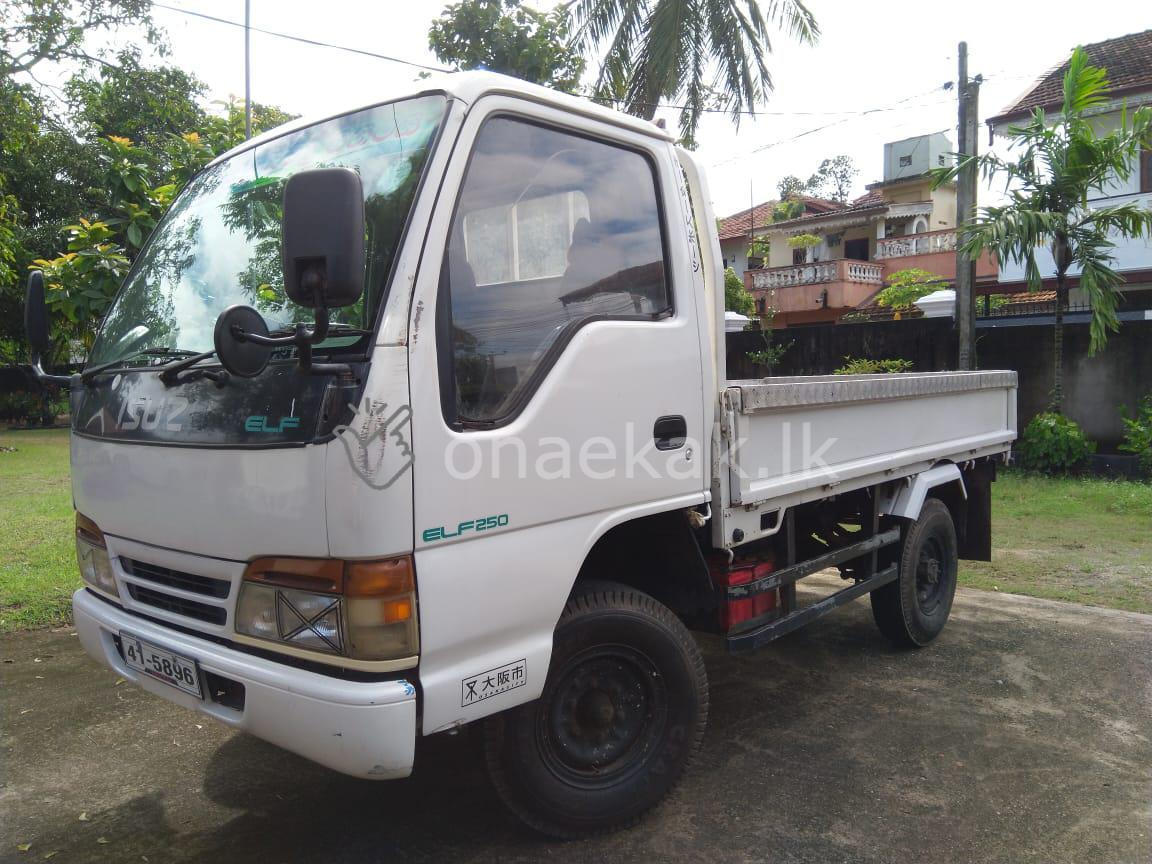truck: (28, 67, 1019, 838)
